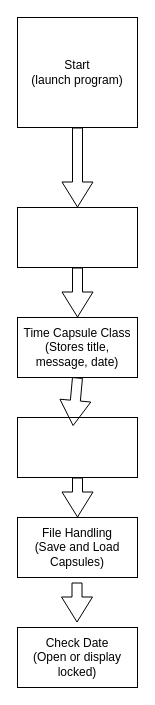
Some shapes in this 155 by 705 pixel diagram are drawn without their labels. The shapes that lost their labels are listed below. From the top down, each one's centre as x and y in pixels, then its label:
[77,237]: Main Menu (Create / View/ Exit)
[77,447]: ArrayList Store all capsules
